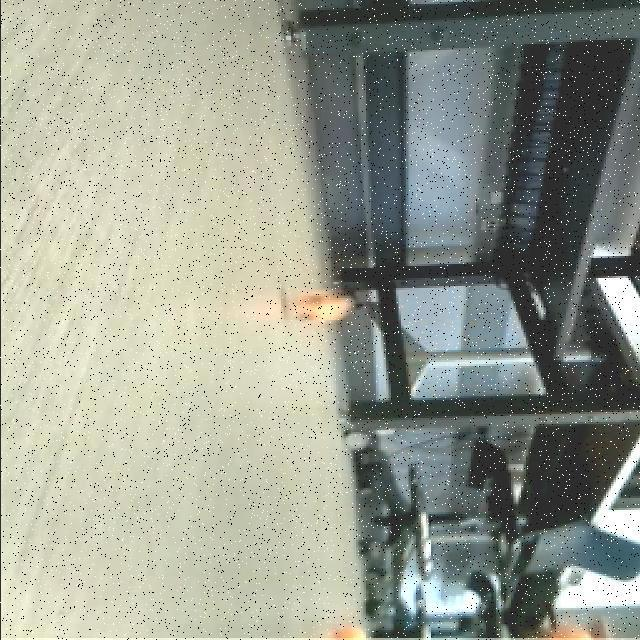ping-pong-ball: (290, 288, 351, 326)
